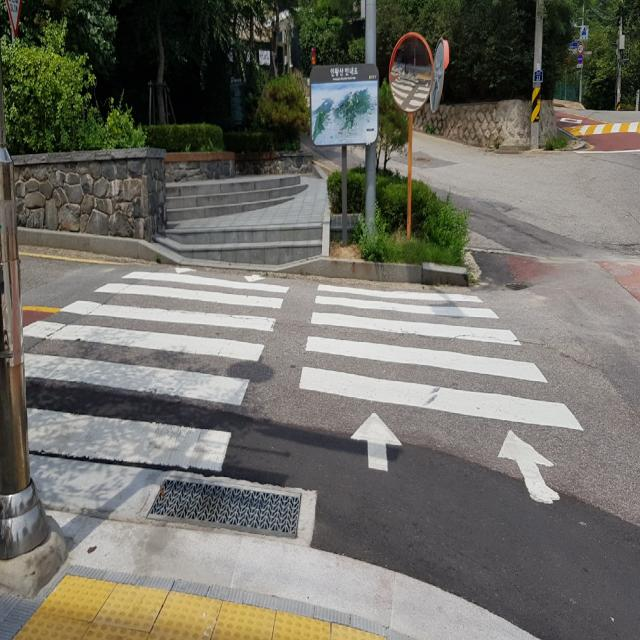횡단보도: (23, 267, 584, 503)
